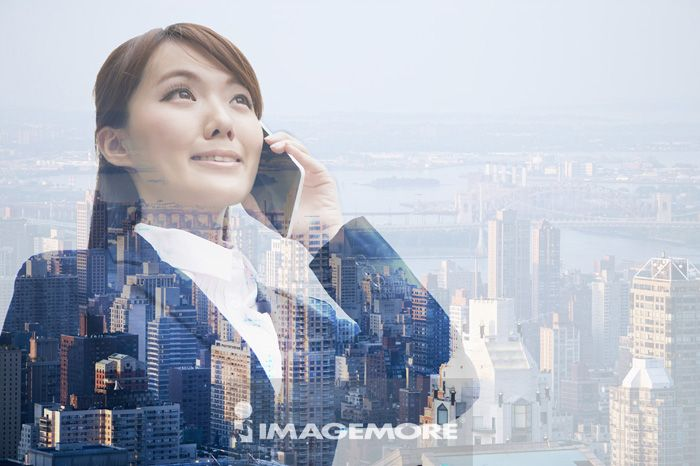phone: (248, 127, 305, 241)
talk: (148, 63, 335, 250)
